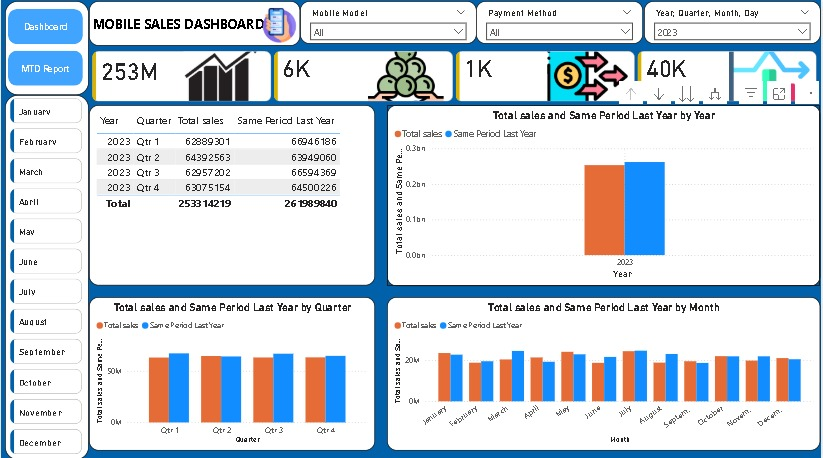

This screenshot's page, from the dashboard's own definition file:
{"tool":"powerbi","page":{"name":"Same Period Last Year","canvas":[1280,720],"ordinal":2},"visuals":[{"type":"shape","box":[5.7,2.9,131.4,147.1],"z":0},{"type":"cardVisual","fields":{"Data":["Sales_data.Total sales","Sales_data.Total Quantity","Sales_data.Transaction","Sales_data.Average"]},"box":[137.1,81.4,1142.9,84.3],"z":1000},{"type":"slicer","fields":{"Values":["Sales_data.Mobile Model"]},"box":[467.1,2.9,275.7,67.1],"z":2000},{"type":"slicer","fields":{"Values":["Sales_data.Payment Method"]},"box":[742.9,2.9,261.4,67.1],"z":3000},{"type":"slicer","fields":{"Values":["Custom_calendar.Date.Variation.Date Hierarchy.Year","Custom_calendar.Date.Variation.Date Hierarchy.Quarter","Custom_calendar.Date.Variation.Date Hierarchy.Month","Custom_calendar.Date.Variation.Date Hierarchy.Day"]},"box":[1004.3,2.9,275.7,67.1],"z":4000},{"type":"shape","box":[5.7,150,131.4,570],"z":5000},{"type":"advancedSlicerVisual","fields":{"Values":["Custom_calendar.Date.Variation.Date Hierarchy.Month"]},"box":[10,150,122.9,570],"z":6000},{"type":"tableEx","fields":{"Values":["Custom_calendar.Date.Variation.Date Hierarchy.Year","Custom_calendar.Date.Variation.Date Hierarchy.Quarter","Sales_data.Total sales","Sales_data.Same Period Last Year"]},"box":[136.8,166.2,447.1,282.4],"z":7000},{"type":"clusteredColumnChart","fields":{"Category":["Custom_calendar.Date.Variation.Date Hierarchy.Year","Custom_calendar.Date.Variation.Date Hierarchy.Quarter","Custom_calendar.Date.Variation.Date Hierarchy.Month","Custom_calendar.Date.Variation.Date Hierarchy.Day"],"Y":["Sales_data.Total sales","Sales_data.Same Period Last Year"]},"box":[602.9,165.7,677.1,282.9],"z":8000},{"type":"clusteredColumnChart","fields":{"Category":["Custom_calendar.Date.Variation.Date Hierarchy.Year","Custom_calendar.Date.Variation.Date Hierarchy.Quarter","Custom_calendar.Date.Variation.Date Hierarchy.Month","Custom_calendar.Date.Variation.Date Hierarchy.Day"],"Y":["Sales_data.Total sales","Sales_data.Same Period Last Year"]},"box":[602.9,465.7,677.1,240],"z":9000},{"type":"clusteredColumnChart","fields":{"Category":["Custom_calendar.Date.Variation.Date Hierarchy.Year","Custom_calendar.Date.Variation.Date Hierarchy.Quarter","Custom_calendar.Date.Variation.Date Hierarchy.Month","Custom_calendar.Date.Variation.Date Hierarchy.Day"],"Y":["Sales_data.Total sales","Sales_data.Same Period Last Year"]},"box":[137.1,465.7,447.1,240],"z":10000},{"type":"pageNavigator","box":[11.4,15.7,117.1,121.4],"z":12000},{"type":"shape","box":[137.1,2.9,330,70],"z":12001},{"type":"image","box":[402.9,0,64.3,81.4],"z":12002}]}

Visuals, with their boxes on the page's 1280x720 design canvas (x1, y1, x2, y2). These are canvas units, not pixel positions in the 823x458 screenshot, which may show the page scaled, cropped or inside an application window:
shape: 6/3/137/150
cardVisual - Sales_data.Total sales x Sales_data.Total Quantity: 137/81/1280/166
slicer - Sales_data.Mobile Model: 467/3/743/70
slicer - Sales_data.Payment Method: 743/3/1004/70
slicer - Custom_calendar.Date.Variation.Date Hierarchy.Year x Custom_calendar.Date.Variation.Date Hierarchy.Quarter: 1004/3/1280/70
shape: 6/150/137/720
advancedSlicerVisual - Custom_calendar.Date.Variation.Date Hierarchy.Month: 10/150/133/720
tableEx - Custom_calendar.Date.Variation.Date Hierarchy.Year x Custom_calendar.Date.Variation.Date Hierarchy.Quarter: 137/166/584/449
clusteredColumnChart - Custom_calendar.Date.Variation.Date Hierarchy.Year x Custom_calendar.Date.Variation.Date Hierarchy.Quarter: 603/166/1280/449
clusteredColumnChart - Custom_calendar.Date.Variation.Date Hierarchy.Year x Custom_calendar.Date.Variation.Date Hierarchy.Quarter: 603/466/1280/706
clusteredColumnChart - Custom_calendar.Date.Variation.Date Hierarchy.Year x Custom_calendar.Date.Variation.Date Hierarchy.Quarter: 137/466/584/706
pageNavigator: 11/16/128/137
shape: 137/3/467/73
image: 403/0/467/81
